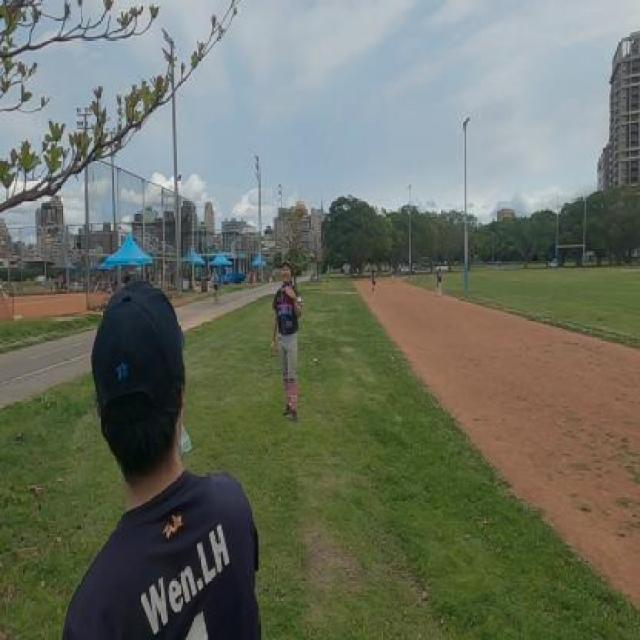baseball: (296, 198, 306, 218)
